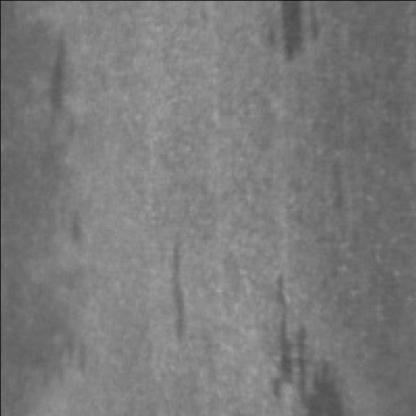inclusion: (260, 266, 312, 416), (33, 17, 79, 177), (146, 226, 200, 354), (272, 2, 320, 73)
